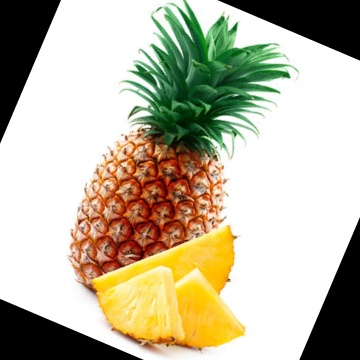Pineapple: (70, 27, 295, 294)
